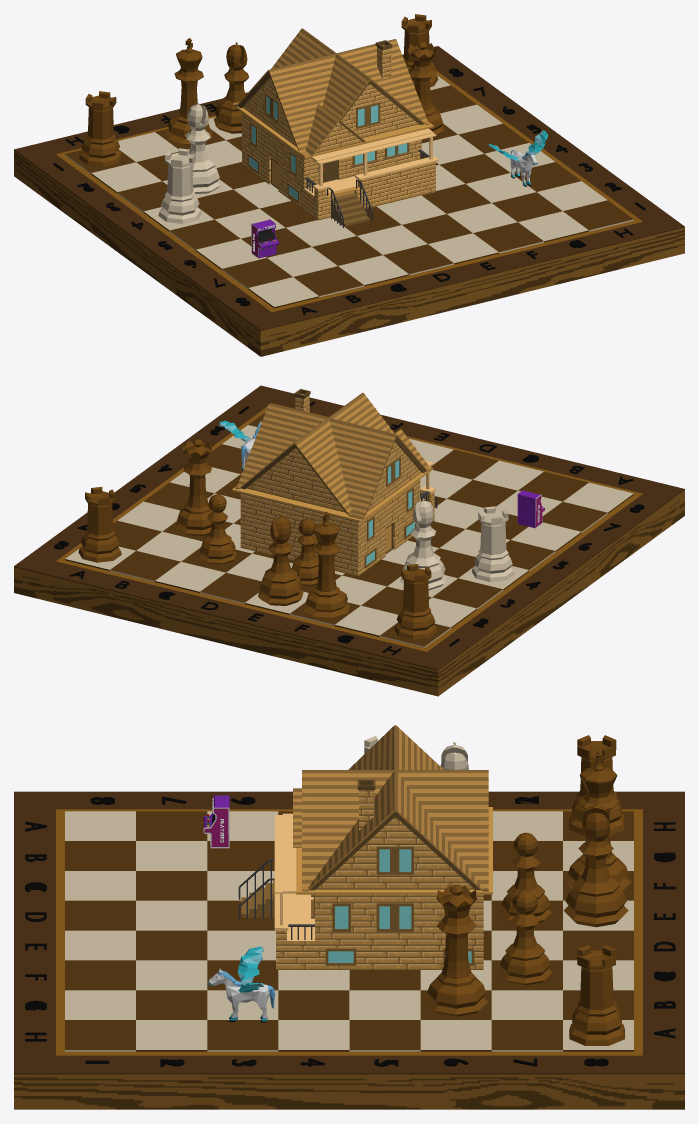
3 renders of one model, top to bottom at view 1: azimuth 30°, elevation 25°; view 2: azimuth 150°, elevation 25°; view 3: azimuth 270°, elevation 25°, orthographic. The views are drawn at different scales.
Parts seen in each view (by area): view 1: Cube.002, Cube.508, ANIMAL_PEGASO, OBJRANDOM_ARCADE; view 2: Cube.002, Cube.508, OBJRANDOM_ARCADE, ANIMAL_PEGASO; view 3: Cube.002, Cube.508, ANIMAL_PEGASO, OBJRANDOM_ARCADE.
Boxes of the visible parts, left/top/right/bottom form: Cube.002: left=14, top=14, right=684, bottom=356; Cube.508: left=232, top=28, right=438, bottom=227; ANIMAL_PEGASO: left=488, top=130, right=548, bottom=186; OBJRANDOM_ARCADE: left=251, top=219, right=279, bottom=258; Cube.002: left=14, top=385, right=684, bottom=696; Cube.508: left=232, top=389, right=437, bottom=576; OBJRANDOM_ARCADE: left=517, top=490, right=545, bottom=528; ANIMAL_PEGASO: left=219, top=420, right=261, bottom=470; Cube.002: left=14, top=735, right=684, bottom=1109; Cube.508: left=238, top=725, right=492, bottom=969; ANIMAL_PEGASO: left=208, top=946, right=275, bottom=1022; OBJRANDOM_ARCADE: left=203, top=795, right=229, bottom=848.
Bounding box in the file's own units: 3981 × 1488 × 4012.
Materials: 33 (3 with a texture image).
